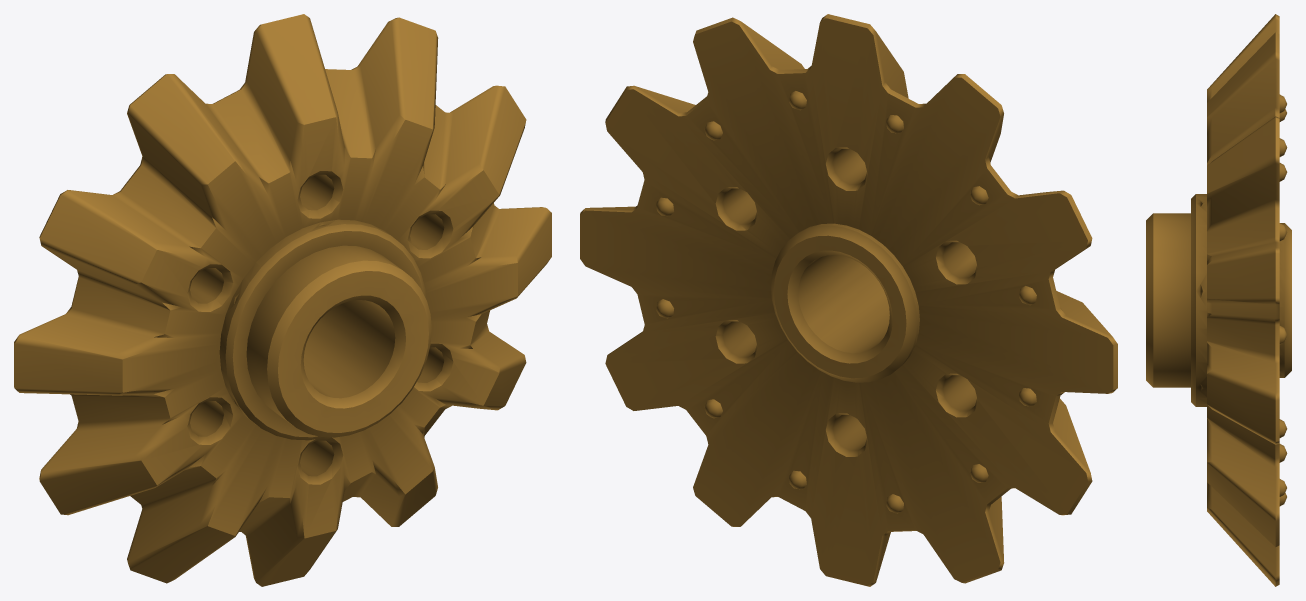
The model's file is gear_bevel_12.glb.
The picture shows the model from 3 angles, left to right: view 1: azimuth 30°, elevation 25°; view 2: azimuth 150°, elevation 25°; view 3: azimuth 270°, elevation 25°; orthographic projection. The views are drawn at different scales.
Parts seen in each view (by area): view 1: GearBevel12; view 2: GearBevel12; view 3: GearBevel12.
Boxes of the visible parts, <box> form: GearBevel12: <box>14,14,551,586</box>; GearBevel12: <box>580,14,1117,586</box>; GearBevel12: <box>1146,14,1291,586</box>.
Bounding box in the file's own units: 0.047 × 0.047 × 0.012.
